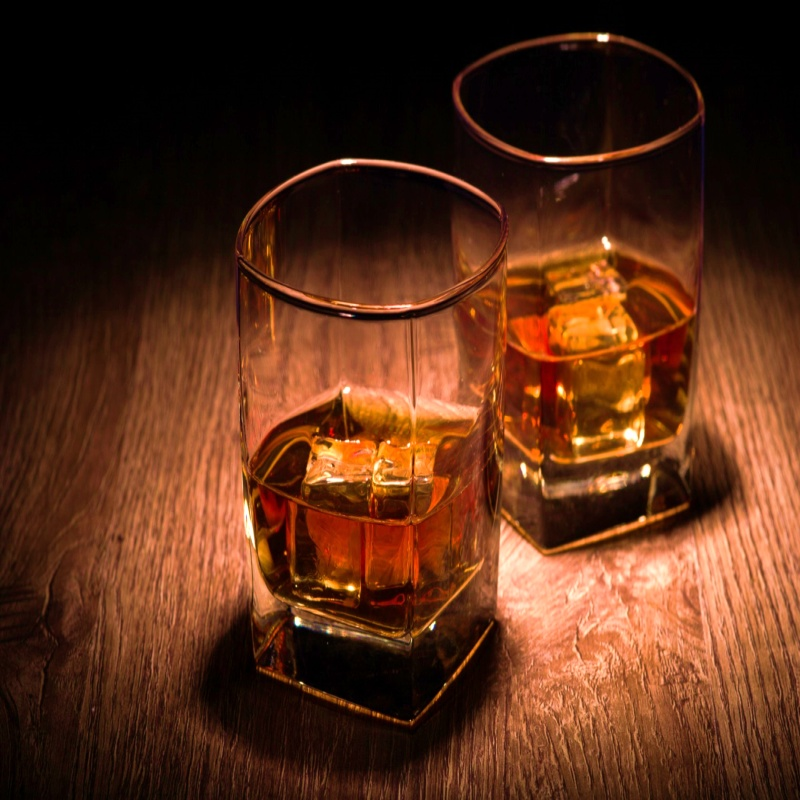whiskey: (234, 157, 504, 665), (471, 30, 705, 559)
